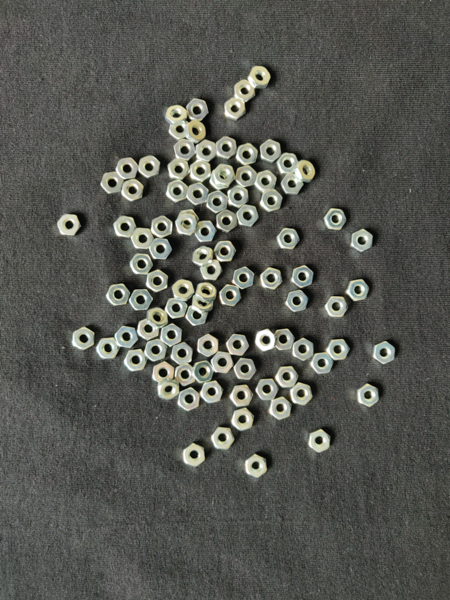nut: (245, 454, 268, 479), (183, 443, 206, 468), (212, 427, 235, 451), (232, 408, 255, 432), (357, 384, 380, 408), (201, 381, 225, 404), (124, 350, 148, 373), (115, 327, 139, 350), (260, 267, 284, 290), (346, 279, 370, 302), (57, 214, 82, 236), (216, 209, 238, 234), (260, 139, 282, 164), (270, 397, 293, 420), (373, 341, 396, 364), (255, 329, 278, 352), (171, 342, 194, 365), (145, 339, 168, 362), (236, 205, 259, 228), (121, 179, 144, 202), (101, 172, 124, 195), (138, 156, 161, 179), (248, 66, 271, 89), (178, 388, 200, 412), (73, 327, 95, 351), (106, 284, 130, 306), (325, 296, 349, 318), (113, 216, 137, 238), (175, 214, 199, 236), (236, 143, 258, 167), (165, 105, 189, 127), (225, 97, 247, 121), (309, 430, 331, 453), (256, 379, 279, 401), (291, 383, 313, 406), (158, 378, 180, 401), (234, 358, 257, 380), (311, 352, 334, 374), (97, 338, 120, 360), (137, 319, 160, 341), (161, 324, 183, 347), (172, 280, 195, 302), (146, 270, 168, 293), (220, 284, 242, 307), (233, 267, 255, 290), (286, 290, 309, 312), (324, 209, 347, 231), (351, 229, 373, 252), (261, 190, 283, 213), (207, 191, 229, 214), (187, 183, 209, 206), (167, 180, 189, 203), (294, 160, 316, 183), (214, 164, 236, 187), (167, 158, 190, 180), (174, 138, 196, 161), (186, 99, 209, 121), (234, 80, 256, 103), (293, 338, 314, 362), (129, 290, 153, 311), (200, 260, 224, 281), (149, 239, 173, 260), (130, 229, 154, 250), (212, 352, 234, 374), (192, 361, 214, 383), (152, 362, 174, 384), (227, 334, 249, 356), (147, 308, 169, 330), (292, 266, 314, 288), (151, 216, 173, 238), (195, 221, 217, 243), (116, 158, 138, 180), (255, 171, 277, 193), (230, 386, 253, 407), (276, 367, 299, 388), (327, 339, 350, 360), (198, 334, 219, 357), (165, 299, 188, 320), (130, 254, 153, 275), (214, 241, 237, 262), (277, 229, 300, 250), (190, 160, 211, 183), (216, 137, 237, 160), (185, 121, 206, 144), (193, 246, 214, 268), (228, 186, 249, 208), (236, 166, 257, 188), (277, 153, 299, 174), (196, 140, 217, 162), (175, 364, 195, 387), (186, 306, 209, 326), (281, 175, 304, 195), (276, 329, 296, 351), (192, 294, 214, 314), (196, 283, 217, 302), (179, 210, 200, 229), (210, 170, 229, 190), (170, 121, 189, 140)
